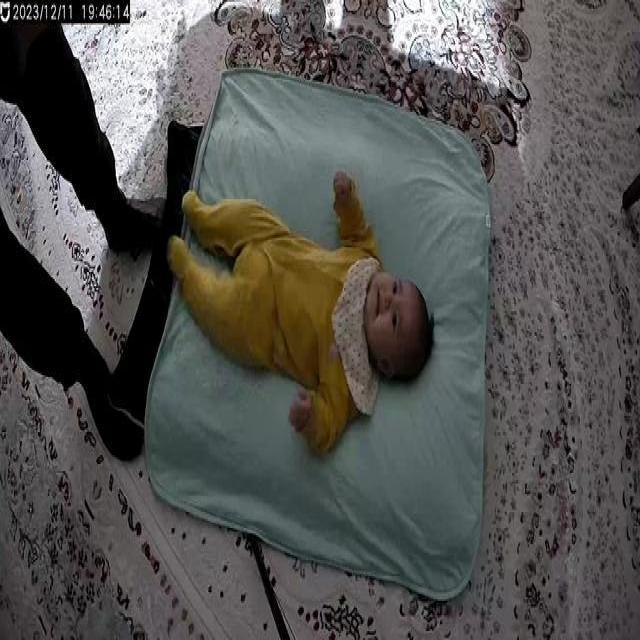baby: (164, 165, 433, 452)
